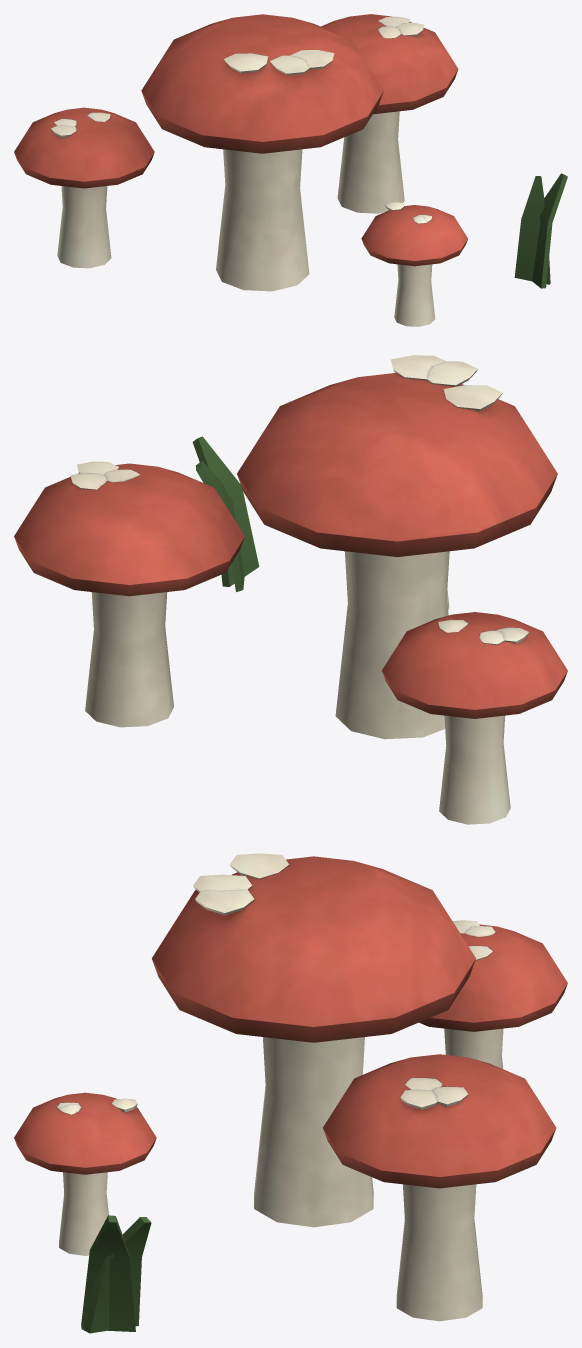
Rendered from mushrooms.glb.
3 views of the same model, one above another, from view 1: azimuth 30°, elevation 25°; view 2: azimuth 150°, elevation 25°; view 3: azimuth 270°, elevation 25° (orthographic). The views are drawn at different scales.
Visible parts, largest first — view 1: Mushrooms, v_mushrooms_f_grass_deep; view 2: Mushrooms, v_mushrooms_f_grass_deep; view 3: Mushrooms, v_mushrooms_f_grass_deep.
Part boxes in pixels (x1=…): Mushrooms: x1=14, y1=14, x2=467, y2=326; v_mushrooms_f_grass_deep: x1=514, y1=173, x2=567, y2=288; Mushrooms: x1=14, y1=355, x2=567, y2=824; v_mushrooms_f_grass_deep: x1=192, y1=436, x2=259, y2=592; Mushrooms: x1=14, y1=853, x2=567, y2=1321; v_mushrooms_f_grass_deep: x1=81, y1=1215, x2=151, y2=1333.
Size of the model in its own units: 0.5546 by 0.3087 by 0.4848.
Materials: 2 (1 with a texture image).
